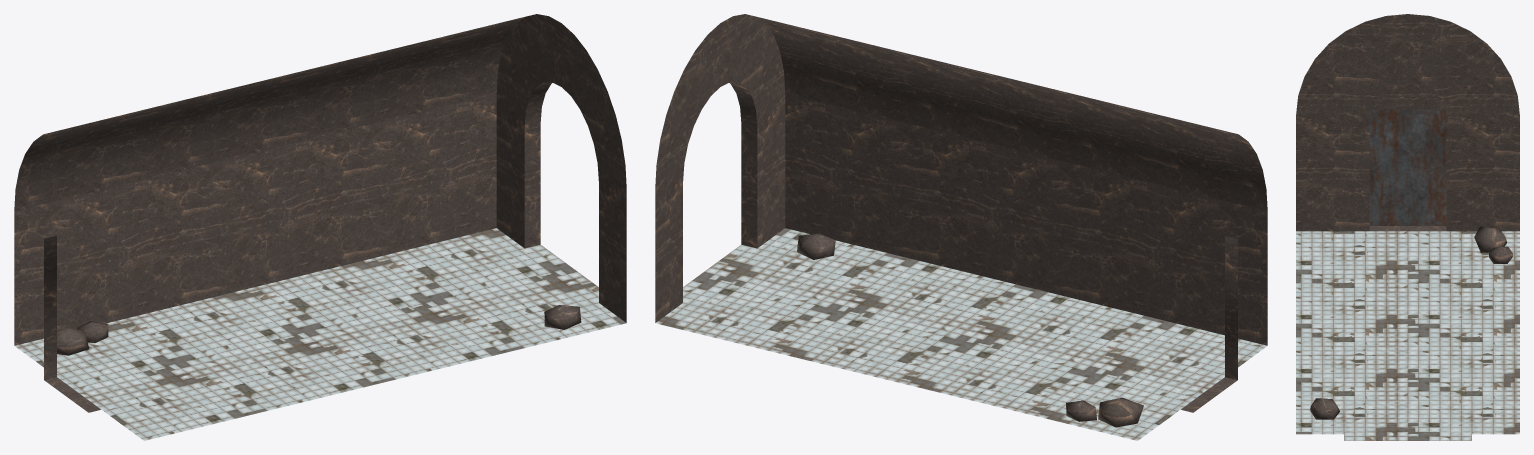
The model's file is stairwell.gltf.
3 views of the same model, side by side, from view 1: azimuth 30°, elevation 25°; view 2: azimuth 150°, elevation 25°; view 3: azimuth 270°, elevation 25° (orthographic). The views are drawn at different scales.
Visible parts, largest first — view 1: stairwell-mesh; view 2: stairwell-mesh; view 3: stairwell-mesh, stairwell-door.
Part boxes in pixels (bbox=[...]): stairwell-mesh: bbox=[14, 14, 626, 440]; stairwell-mesh: bbox=[655, 14, 1267, 440]; stairwell-mesh: bbox=[1296, 14, 1519, 440]; stairwell-door: bbox=[1369, 109, 1446, 225].
Bounding box in the file's own units: 7.95 × 3.85 × 3.5.
3 materials, 3 textured.
